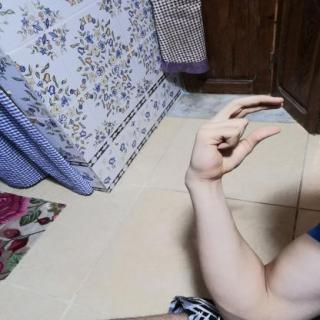DHELL: (181, 91, 294, 184)
